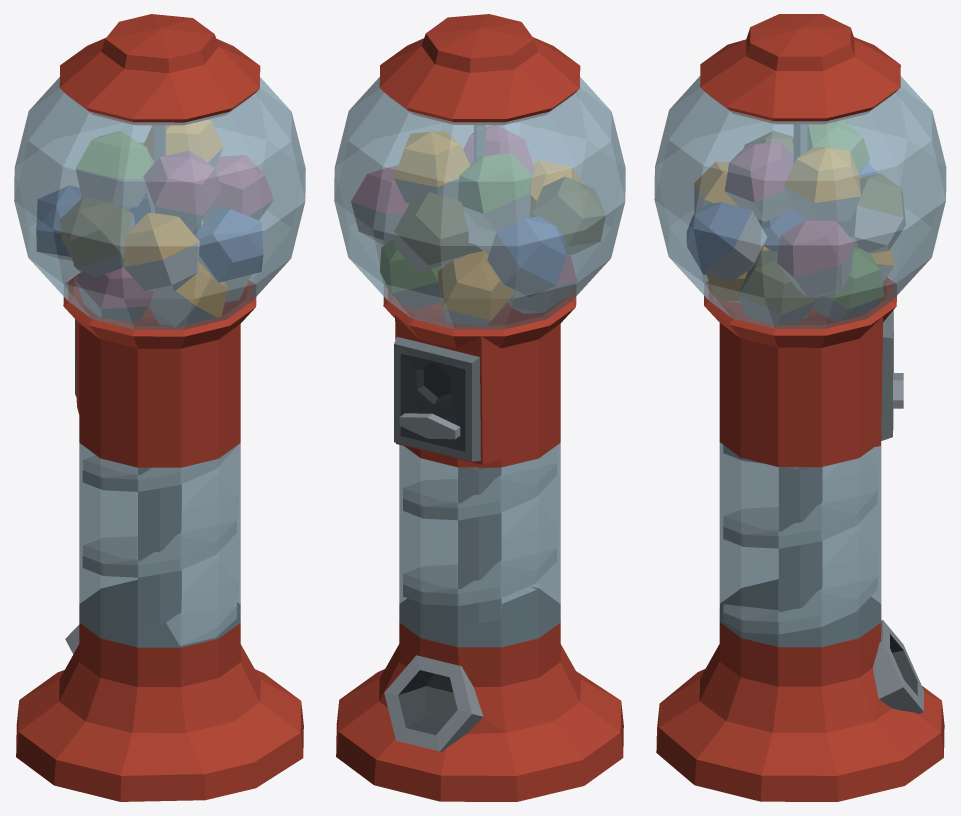
The model's file is Gumball_Machine.fbx.
The picture shows the model from 3 angles, left to right: view 1: azimuth 30°, elevation 25°; view 2: azimuth 150°, elevation 25°; view 3: azimuth 270°, elevation 25°; orthographic projection.
Parts seen in each view (by area): view 1: Gumball_Machine; view 2: Gumball_Machine; view 3: Gumball_Machine.
Boxes of the visible parts, <box> form: Gumball_Machine: <box>14,14,305,801</box>; Gumball_Machine: <box>334,14,625,801</box>; Gumball_Machine: <box>654,14,946,801</box>.
Bounding box in the file's own units: 38.7 × 104 × 38.7.
2 materials, 2 textured.
